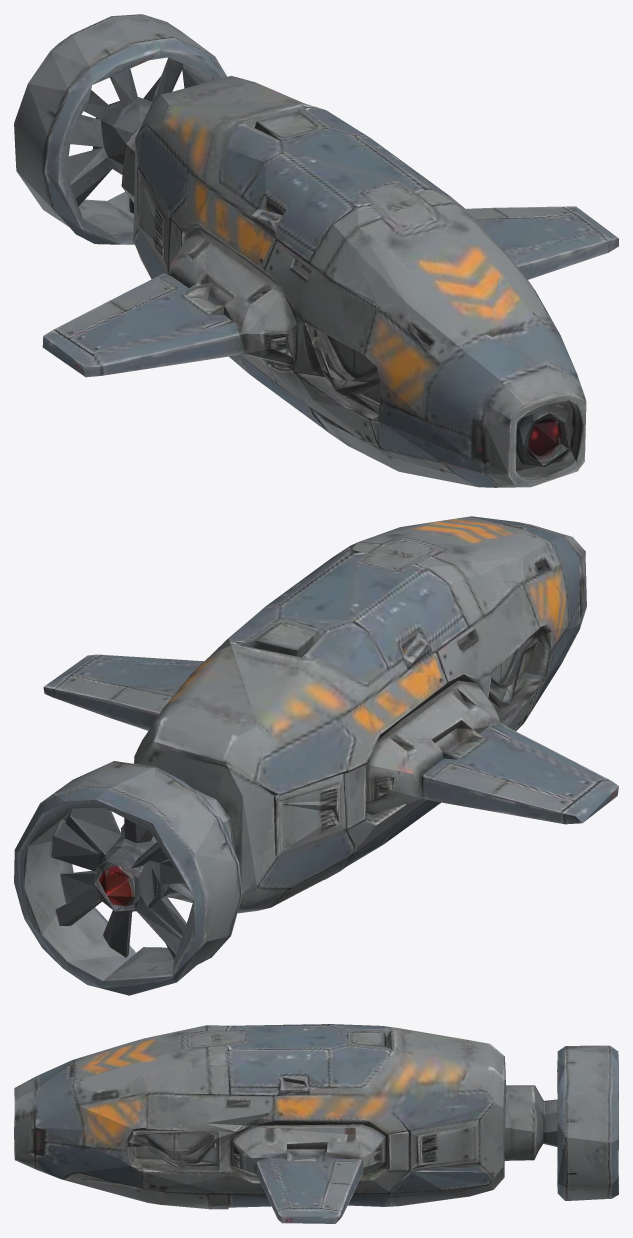
Rendered from seeker-drone.glb.
The picture shows the model from 3 angles, top to bottom: view 1: azimuth 30°, elevation 25°; view 2: azimuth 150°, elevation 25°; view 3: azimuth 270°, elevation 25°; orthographic projection. The views are drawn at different scales.
Parts seen in each view (by area): view 1: Mesh_0; view 2: Mesh_0; view 3: Mesh_0.
Boxes of the visible parts, bbox=[...] form: Mesh_0: bbox=[14, 14, 618, 487]; Mesh_0: bbox=[14, 516, 618, 995]; Mesh_0: bbox=[14, 1024, 618, 1223].
Size of the model in its own units: 0.2383 by 0.0988 by 0.34.
Materials: 1 (1 with a texture image).
